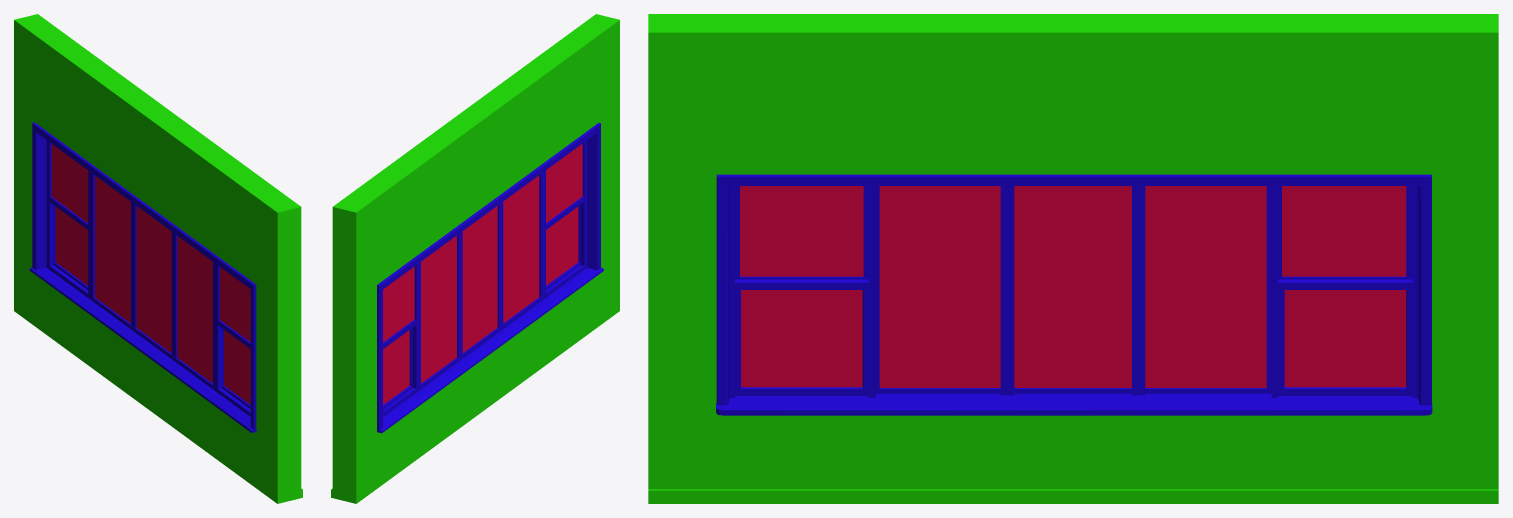
The model's file is Wall_4.FBX.
The picture shows the model from 3 angles, left to right: view 1: azimuth 30°, elevation 25°; view 2: azimuth 150°, elevation 25°; view 3: azimuth 270°, elevation 25°; orthographic projection. The views are drawn at different scales.
Parts seen in each view (by area): view 1: Wall_4; view 2: Wall_4; view 3: Wall_4.
Boxes of the visible parts, left/top/right/bottom form: Wall_4: left=14, top=14, right=302, bottom=503; Wall_4: left=331, top=14, right=619, bottom=503; Wall_4: left=648, top=14, right=1498, bottom=503.
Bounding box in the file's own units: 46.45 × 350 × 574.
